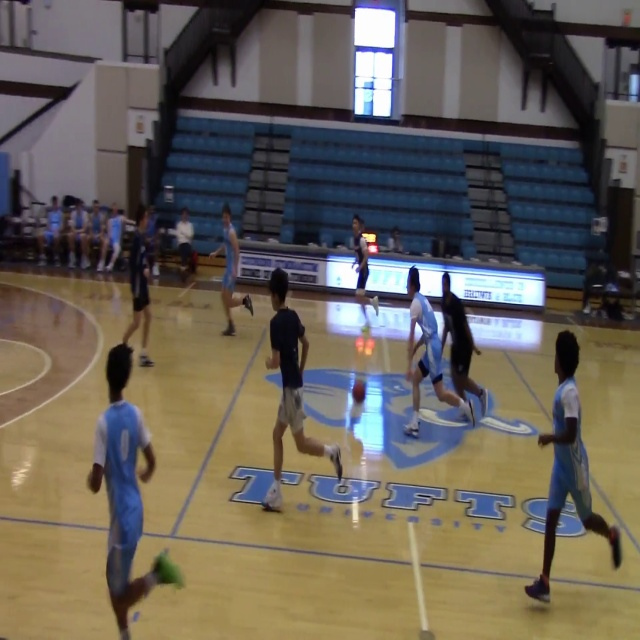Basketball: (352, 380, 366, 402), (266, 356, 278, 370)
